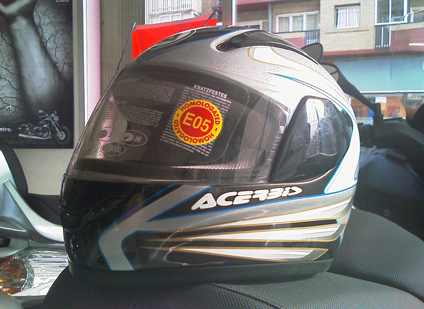helmet: (67, 23, 351, 270)
